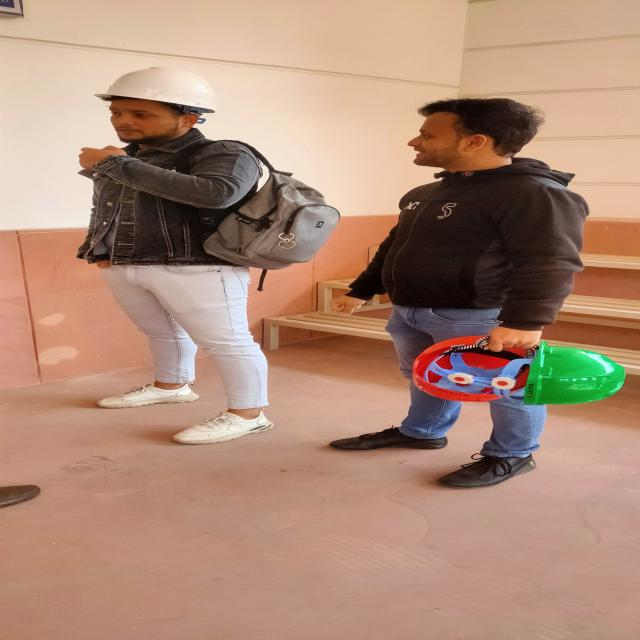no jacket: (77, 63, 334, 443)
unsafe: (332, 98, 628, 487)
